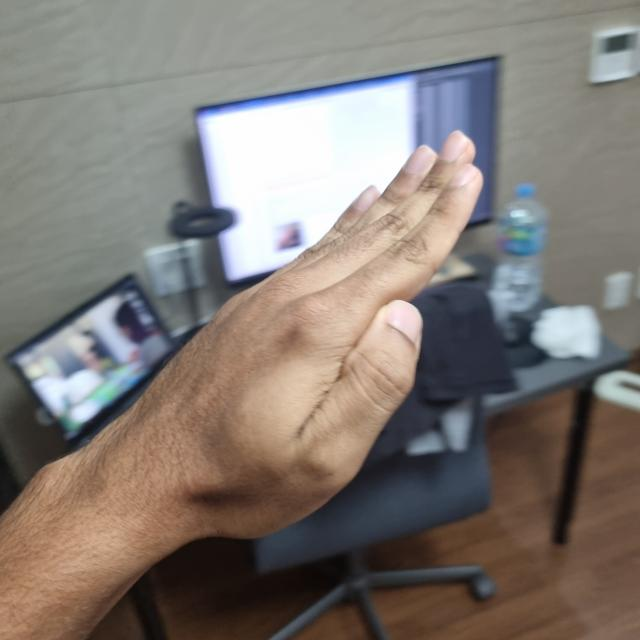Paper: (124, 136, 480, 537)
